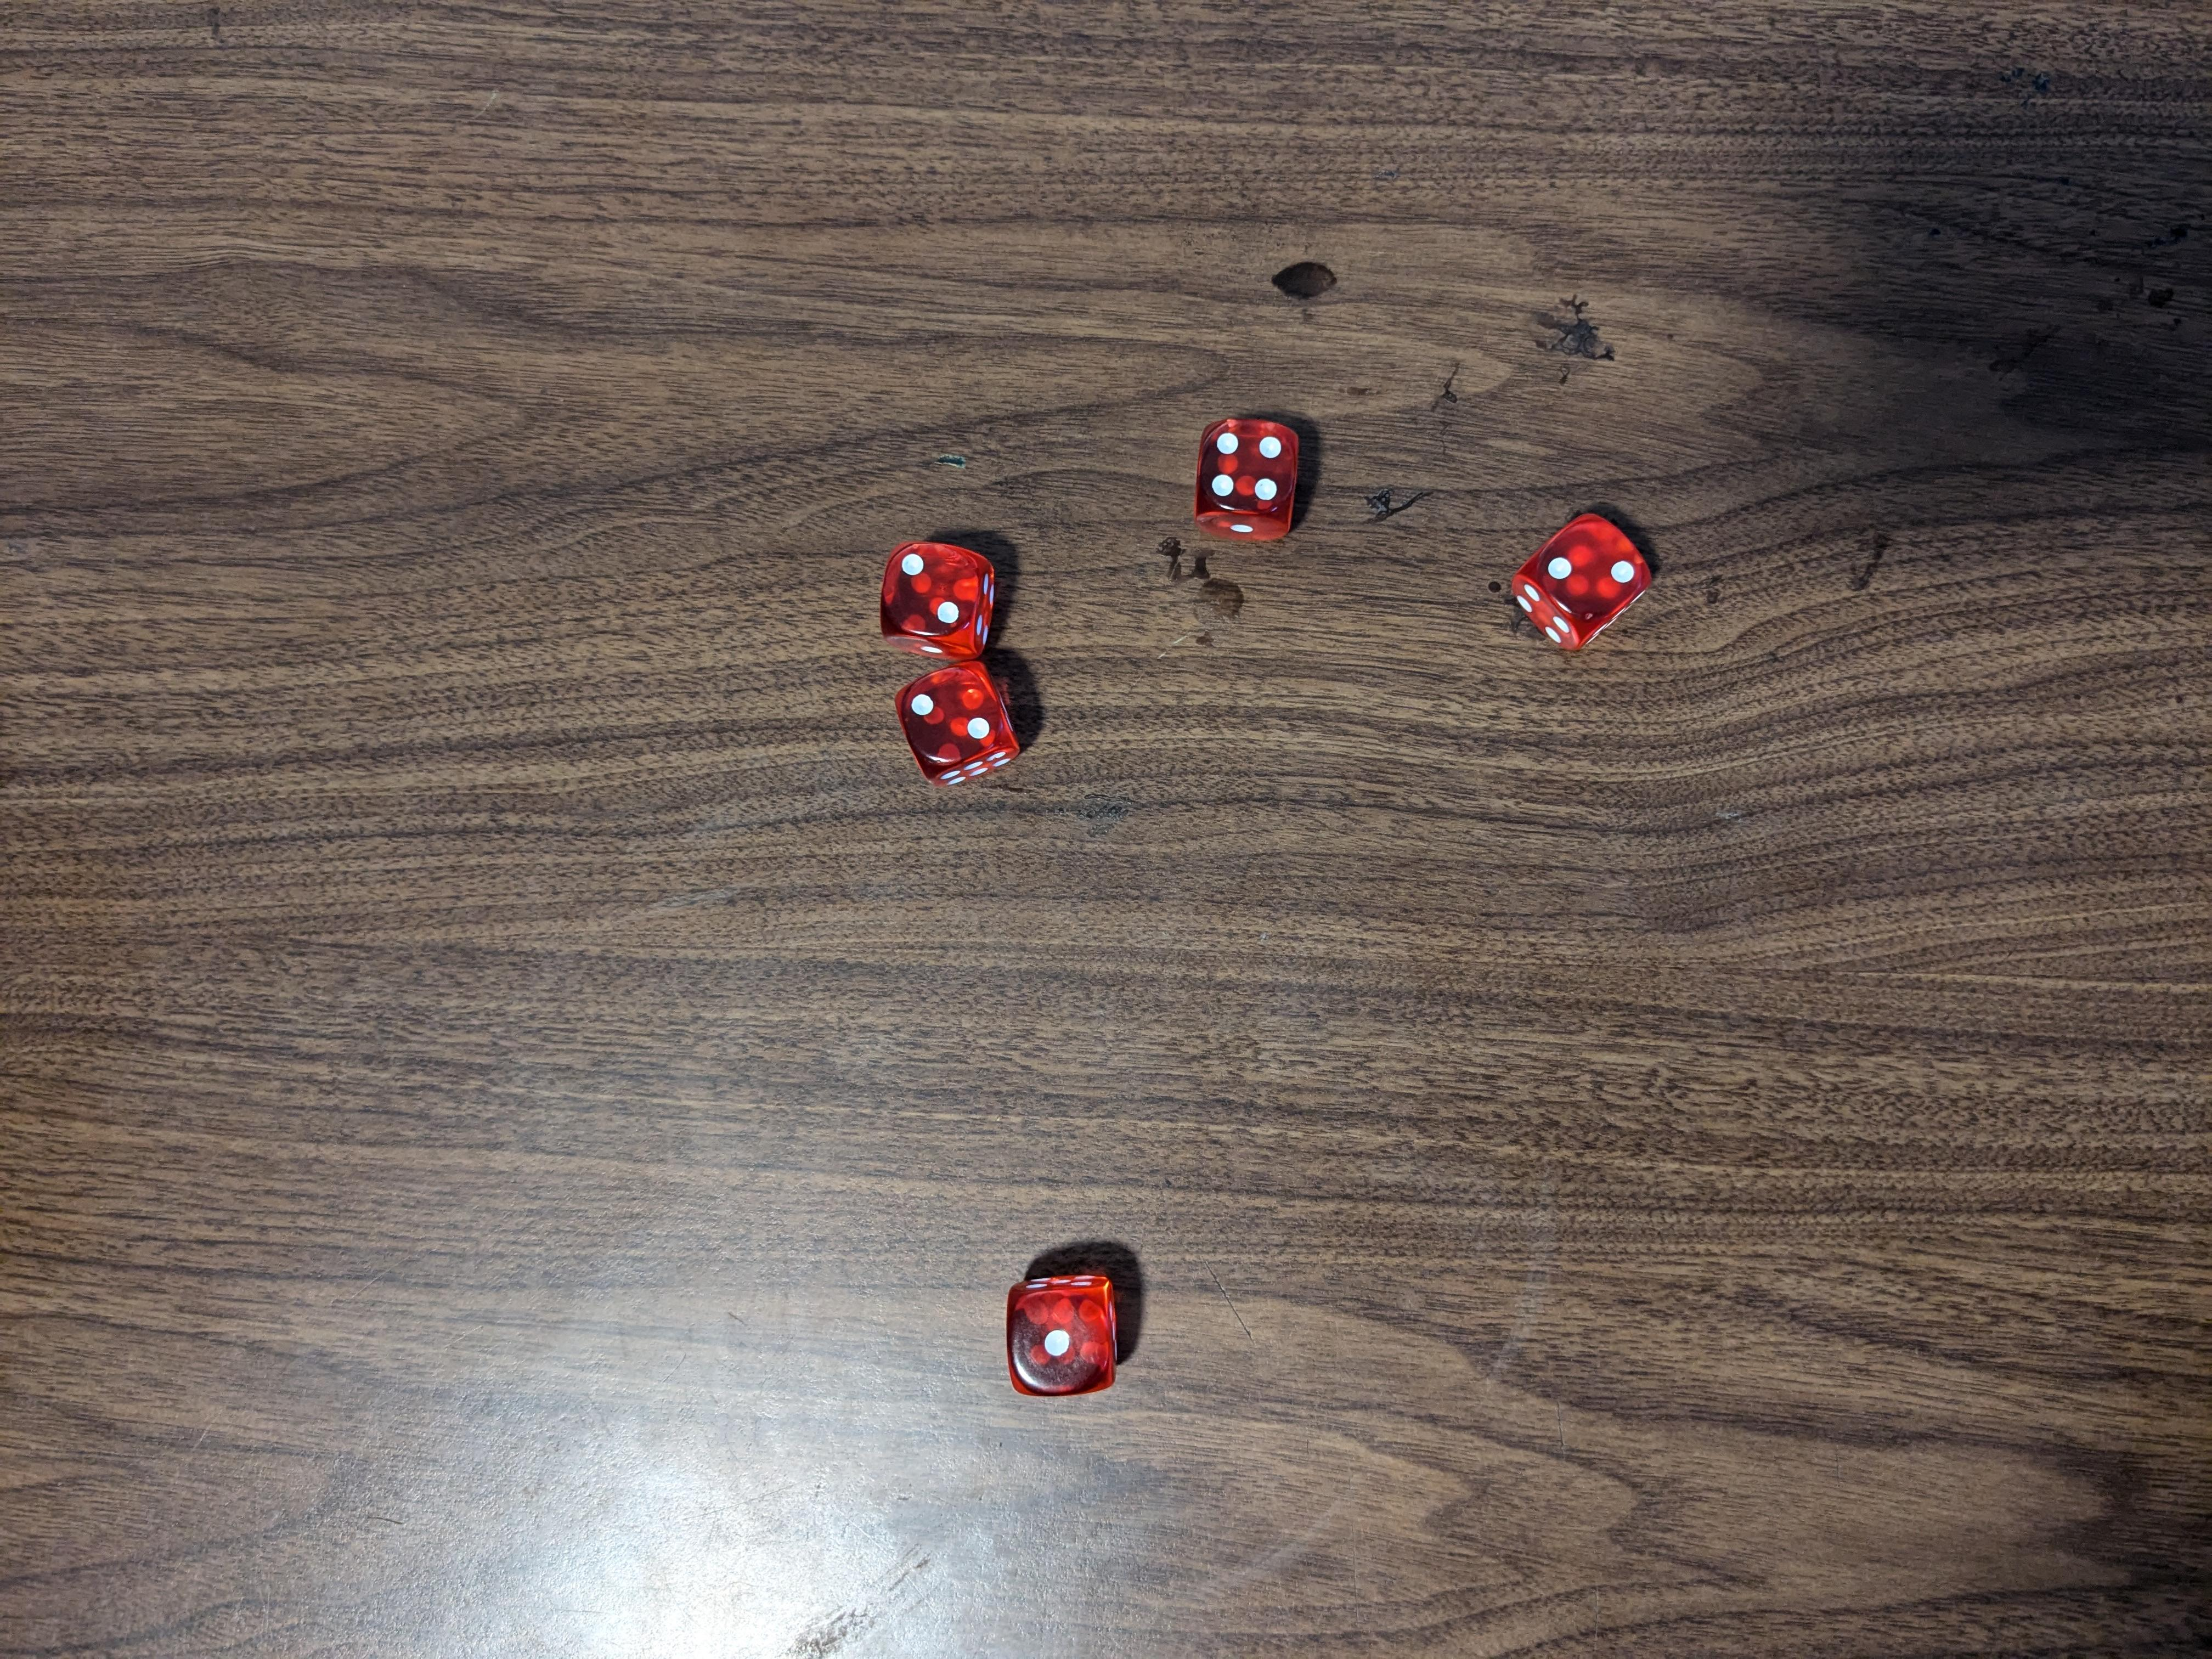four: (1190, 415, 1313, 545)
one: (1005, 1269, 1122, 1401)
two: (1508, 507, 1660, 659), (888, 660, 1024, 793), (874, 537, 1012, 657)
